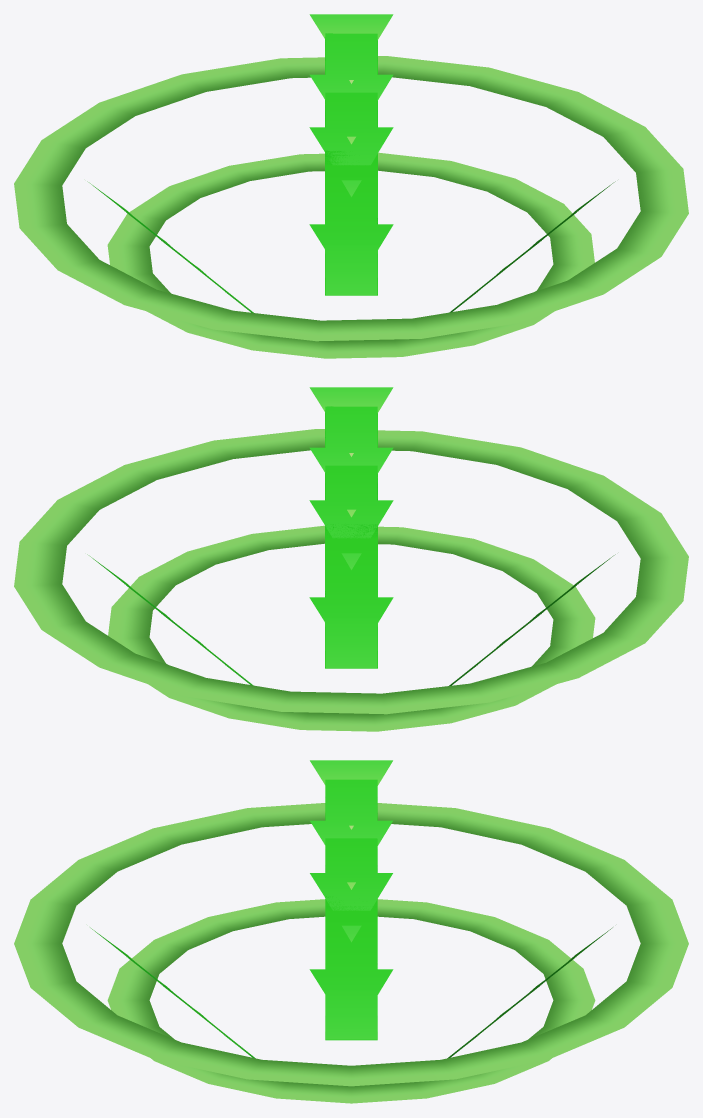
Rendered from arrowAnimation05.fbx.
The picture shows the model from 3 angles, top to bottom: view 1: azimuth 30°, elevation 25°; view 2: azimuth 150°, elevation 25°; view 3: azimuth 270°, elevation 25°; orthographic projection.
Parts seen in each view (by area): view 1: Circle, frame4, frame3, frame2, frame5, frame1; view 2: Circle, frame4, frame3, frame2, frame5, frame1; view 3: Circle, frame4, frame3, frame2, frame5, frame1.
Part boxes in pixels (x1,y1,x2,y2): Circle: [14, 56, 688, 358]; frame4: [121, 38, 578, 312]; frame3: [94, 41, 608, 282]; frame2: [126, 33, 576, 248]; frame5: [154, 104, 546, 312]; frame1: [87, 14, 615, 216]; Circle: [14, 429, 688, 731]; frame4: [124, 411, 595, 685]; frame3: [94, 416, 608, 655]; frame2: [126, 406, 576, 628]; frame5: [154, 479, 548, 685]; frame1: [87, 387, 615, 589]; Circle: [14, 803, 688, 1103]; frame4: [121, 797, 571, 1055]; frame3: [96, 797, 606, 1027]; frame2: [128, 779, 574, 1000]; frame5: [153, 865, 549, 1057]; frame1: [90, 760, 612, 960].
Size of the model in its own units: 0.0347 by 0.0108 by 0.0347.
